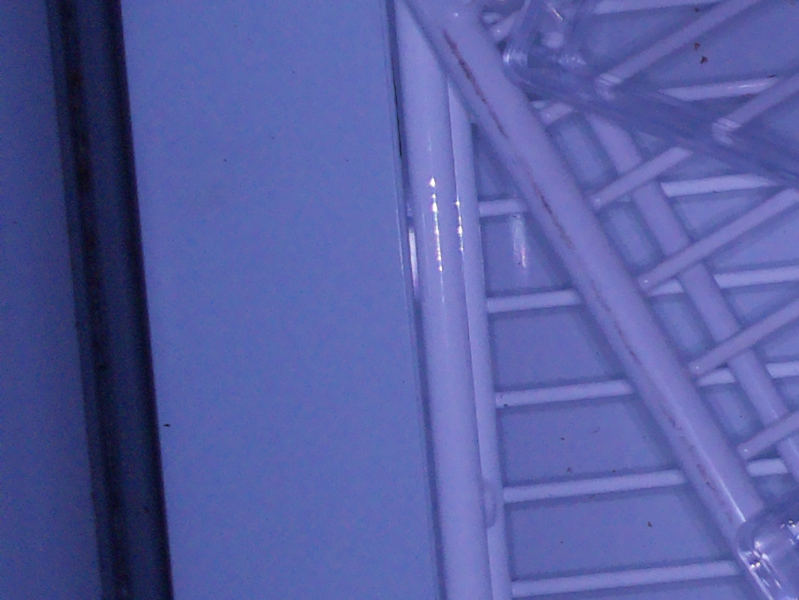plate: (502, 1, 799, 166), (735, 481, 799, 600)
